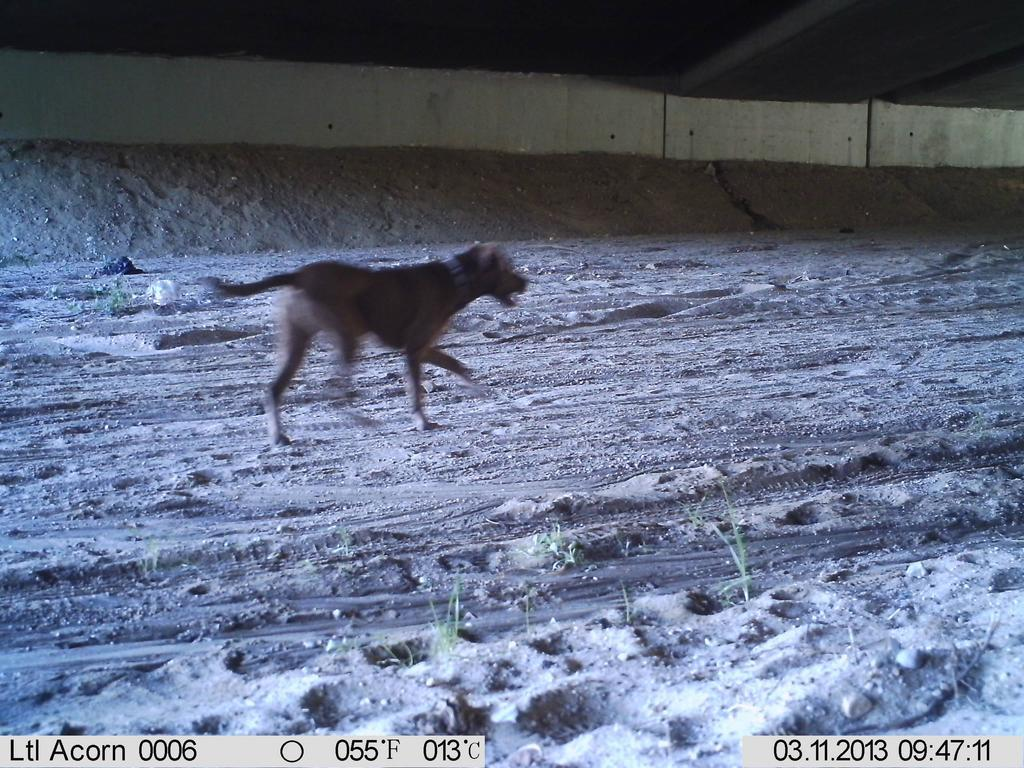dog: (181, 240, 532, 456)
